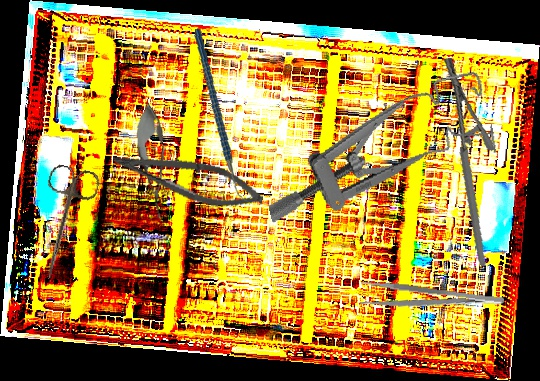Chopper: (180, 28, 265, 206)
Dressing Forceps: (359, 279, 505, 320)
Iris Scissors: (26, 162, 102, 286)
Micro Scissor: (107, 144, 268, 216), (131, 99, 174, 223)
Needle Holder: (408, 56, 521, 267)
Speculum: (249, 69, 503, 226)
